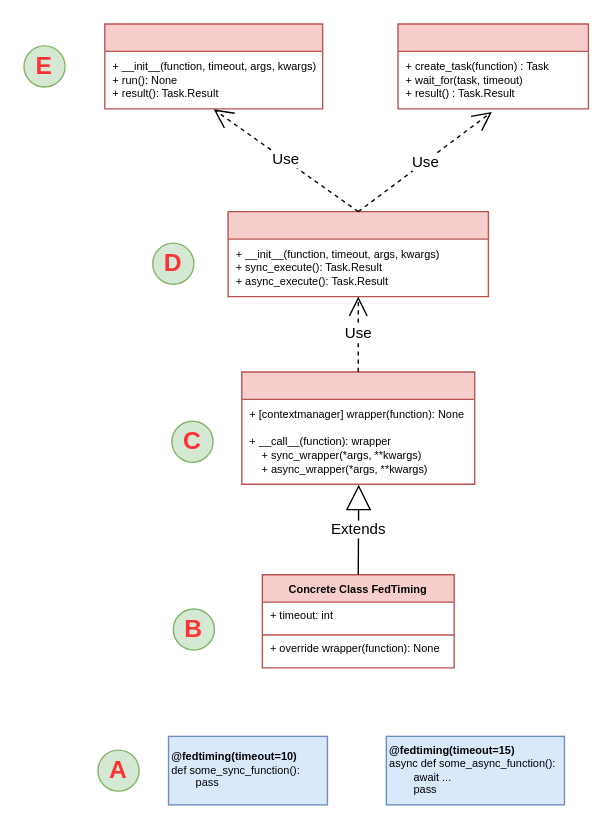
Image size: 612x829. Some labels were removed from this diagram. The shapes that lost their labels are listed below. From the top down, each one's box as (x1, y1, x2, y2) in pixels, then its label:
(103, 23, 323, 109): CustomThread (Sync Execution)
(397, 23, 588, 109): asyncio (Async execution)
(227, 210, 488, 297): Class PrepareTask
(240, 371, 475, 484): Class SyncAsyncTaskDecoFactory
